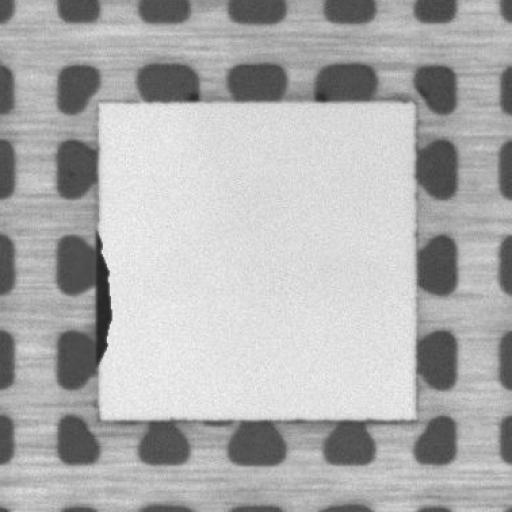DIE_BROKEN: (90, 230, 114, 366)
